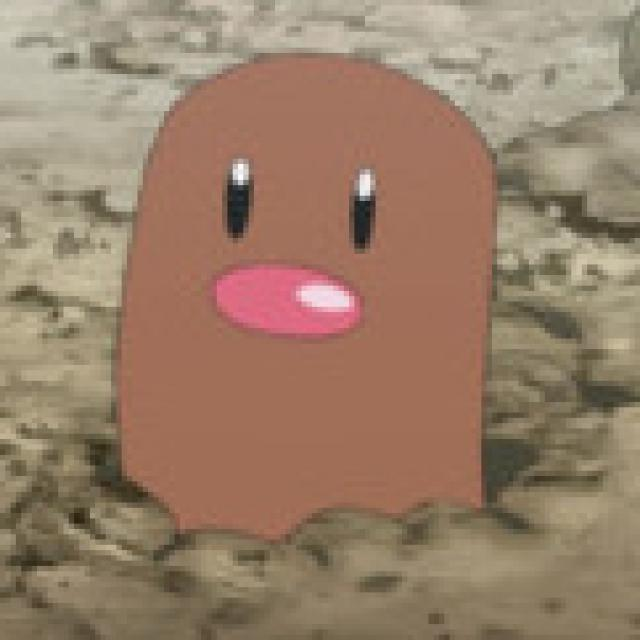Diglett: (100, 40, 505, 548)
